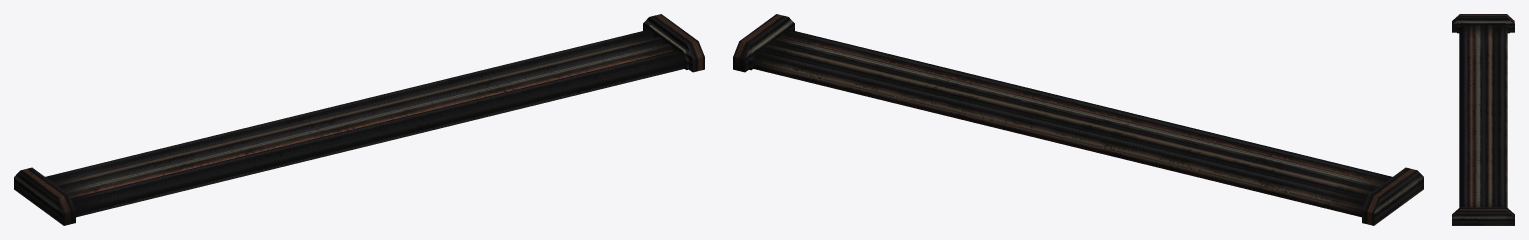
The model's file is wall_cables.dae.
3 renders of one model, left to right at view 1: azimuth 30°, elevation 25°; view 2: azimuth 150°, elevation 25°; view 3: azimuth 270°, elevation 25°, orthographic. The views are drawn at different scales.
Parts seen in each view (by area): view 1: polySurface792; view 2: polySurface792; view 3: polySurface792.
Boxes of the visible parts, <box> form: polySurface792: <box>14,14,704,225</box>; polySurface792: <box>733,14,1423,225</box>; polySurface792: <box>1452,14,1514,225</box>.
Size of the model in its own units: 2 by 0.0706 by 0.2695.
